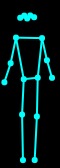mountain: (1, 11, 57, 163)
